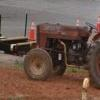Tractor: (16, 16, 100, 84)
